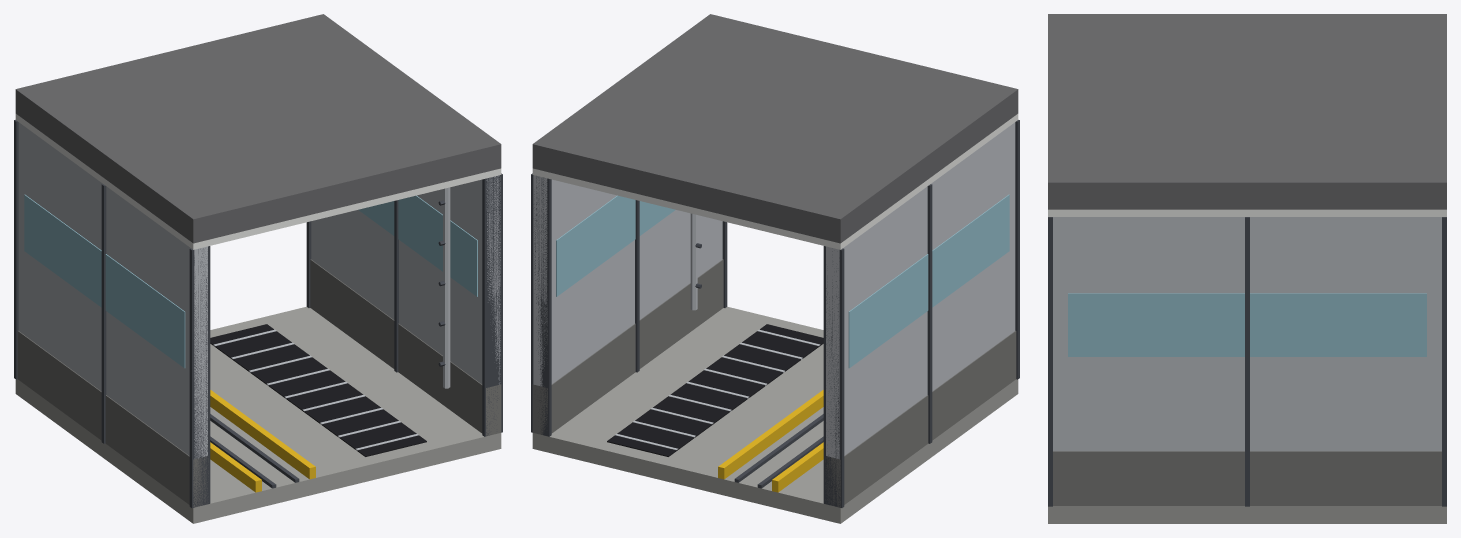
Rendered from Wash_Tunnel_Mid_4m.glb.
3 views of the same model, side by side, from view 1: azimuth 30°, elevation 25°; view 2: azimuth 150°, elevation 25°; view 3: azimuth 270°, elevation 25° (orthographic). The views are drawn at different scales.
Visible parts, largest first — view 1: Wash_Tunnel_Mid_4m; view 2: Wash_Tunnel_Mid_4m; view 3: Wash_Tunnel_Mid_4m.
Boxes of the visible parts, x1=… form: Wash_Tunnel_Mid_4m: x1=14, y1=14, x2=502, y2=523; Wash_Tunnel_Mid_4m: x1=531, y1=14, x2=1019, y2=523; Wash_Tunnel_Mid_4m: x1=1048, y1=14, x2=1446, y2=523.
Bounding box in the file's own units: 4.04 × 3.78 × 4.
Materials: 1 (1 with a texture image).
